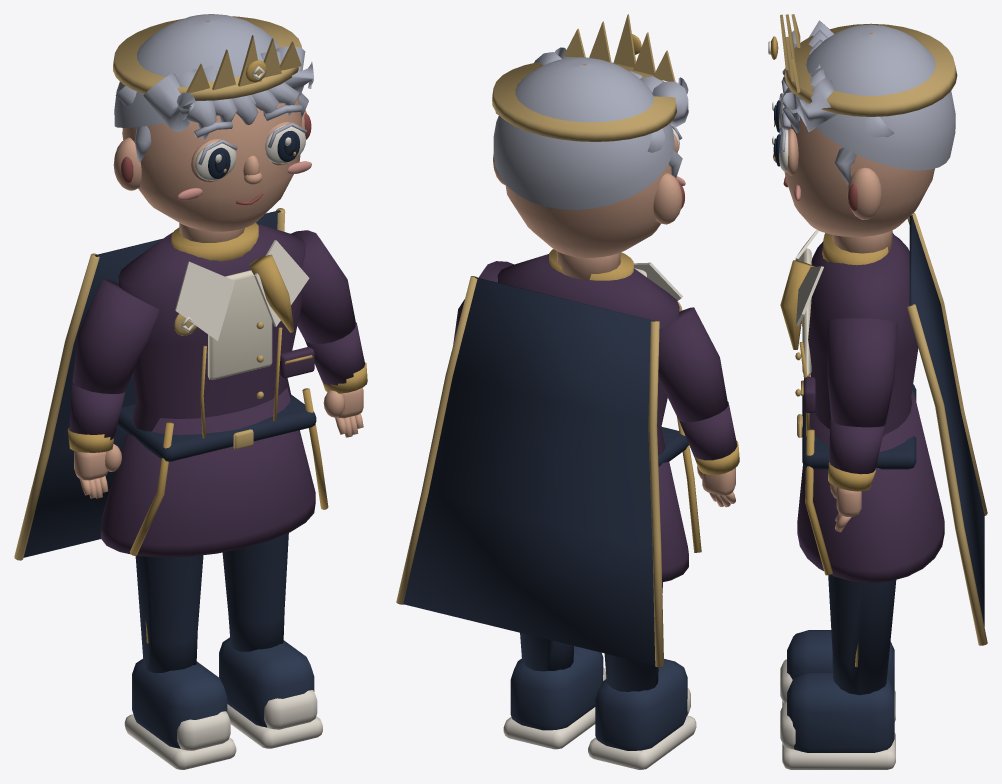
Rendered from trainer_boss.glb.
3 views of the same model, side by side, from view 1: azimuth 30°, elevation 25°; view 2: azimuth 150°, elevation 25°; view 3: azimuth 270°, elevation 25° (orthographic). The views are drawn at different scales.
Parts seen in each view (by area): view 1: figure.007; view 2: figure.007; view 3: figure.007.
Part boxes in pixels (left/top/right/bottom): figure.007: left=14, top=14, right=367, bottom=769; figure.007: left=396, top=14, right=739, bottom=769; figure.007: left=768, top=14, right=987, bottom=769.
Bounding box in the file's own units: 1.06 × 2.5 × 0.6887.
